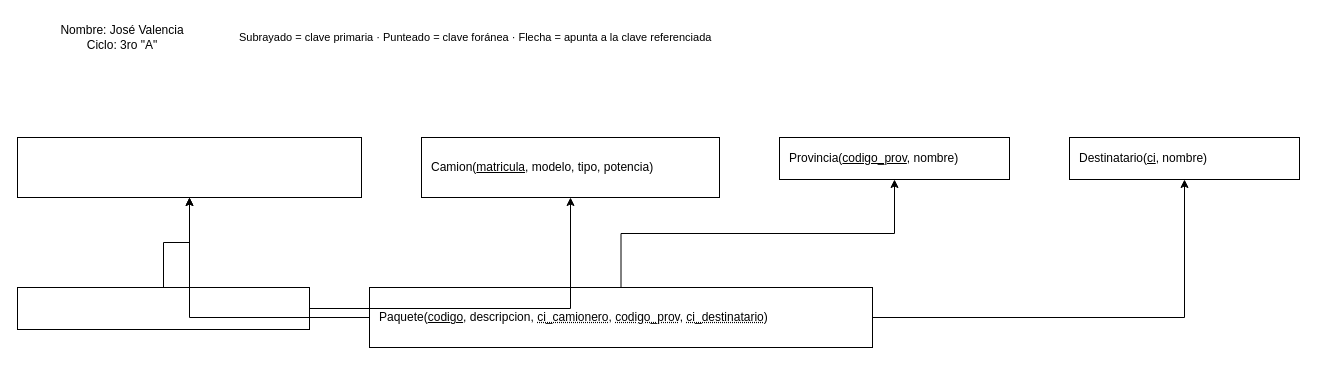
Some shapes in this 1317 by 365 pixel diagram are drawn without their labels. Here are the shapes that lost their labels. From the top down, the box of each, then its label:
(16, 136, 362, 198): Camionero( ci , nombre, telef, direccion, salario)
(16, 286, 310, 330): Lleva_En( ci_camionero , matricula , fecha )
